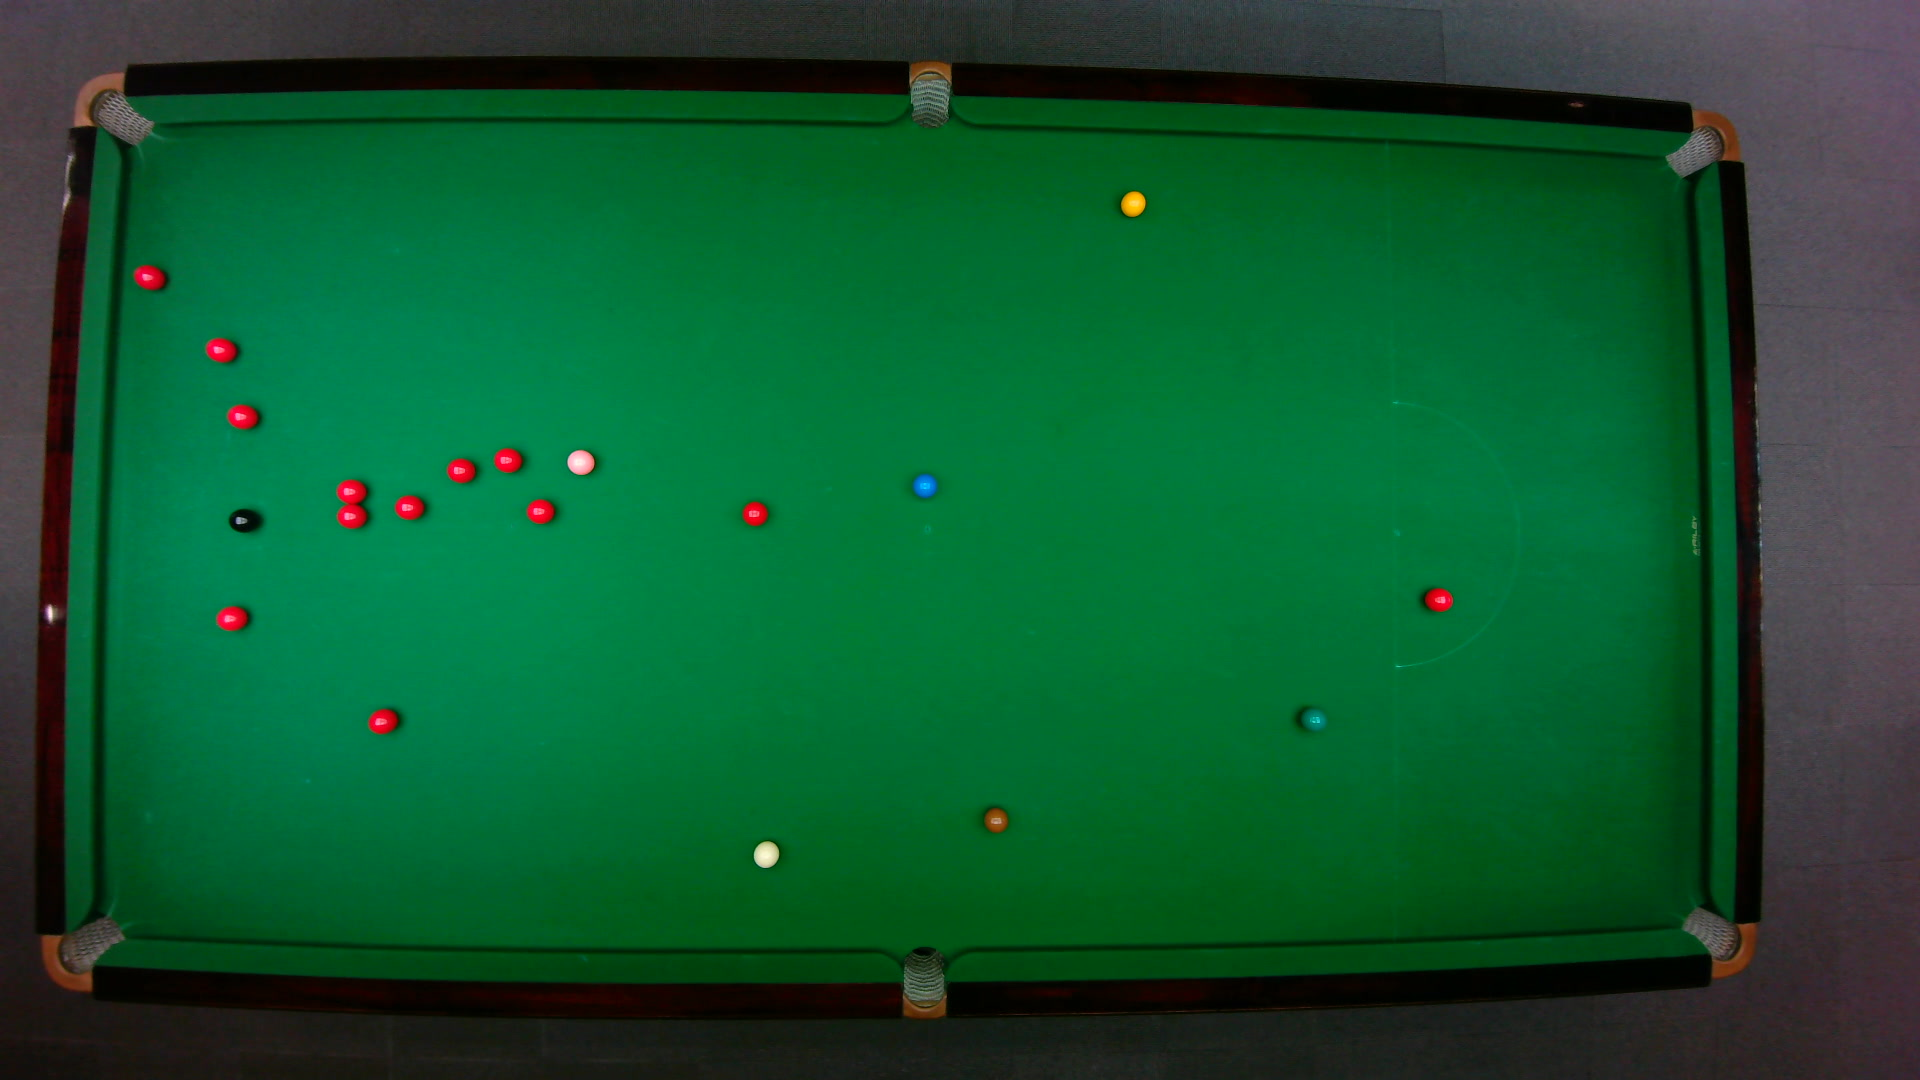bag: (40, 913, 128, 993), (71, 71, 157, 146), (1679, 905, 1758, 980), (1663, 108, 1741, 179), (902, 945, 945, 1021), (909, 61, 951, 131)
black: (225, 506, 260, 534)
blue: (910, 472, 939, 498)
brown: (981, 804, 1010, 835)
green: (1298, 705, 1329, 733)
pink: (564, 448, 597, 476)
red: (131, 262, 167, 291), (367, 705, 401, 736), (203, 336, 239, 364), (214, 605, 251, 632), (335, 477, 369, 505), (224, 401, 258, 429), (525, 497, 556, 526), (393, 493, 426, 521), (492, 446, 525, 473), (1423, 585, 1455, 613), (444, 458, 477, 484), (335, 505, 369, 530), (740, 500, 770, 527)
white: (752, 839, 781, 870)
yellow: (1120, 189, 1149, 219)
zone: (1390, 401, 1520, 669)
